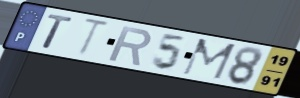5: (148, 32, 189, 71)
8: (225, 45, 264, 87)
M: (179, 37, 239, 82)
R: (106, 24, 155, 67)
T: (75, 16, 114, 59), (40, 12, 76, 51)
